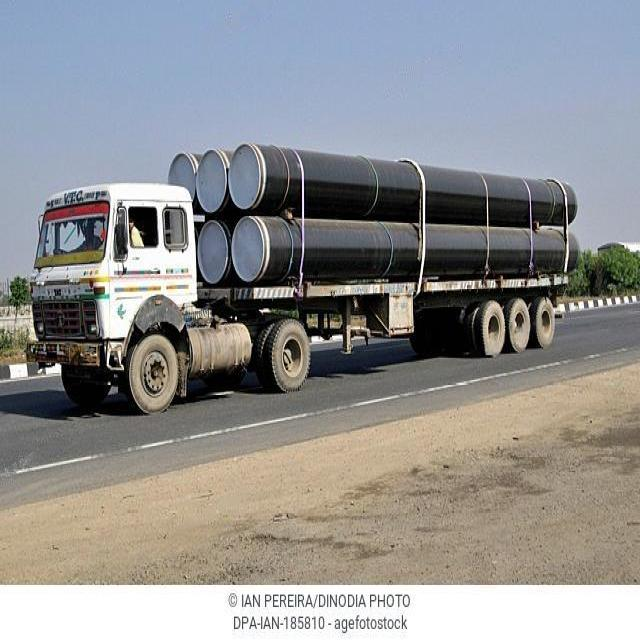truck: (28, 143, 579, 412)
